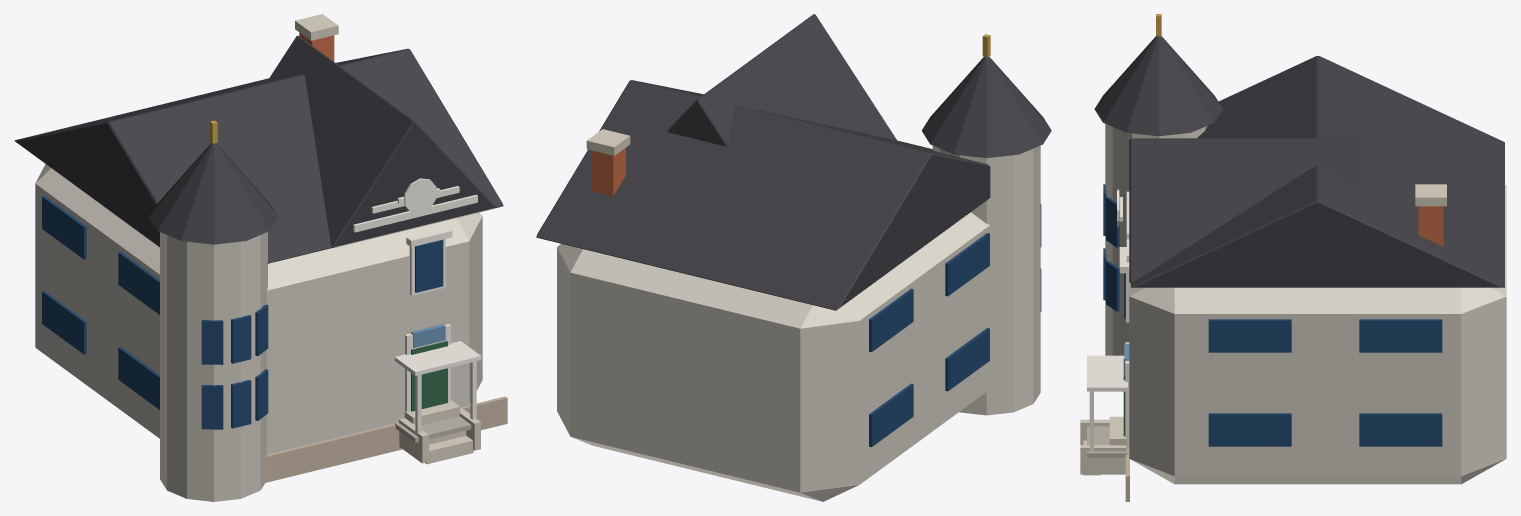
The model's file is qa_w11_turret.glb.
3 renders of one model, left to right at view 1: azimuth 30°, elevation 25°; view 2: azimuth 150°, elevation 25°; view 3: azimuth 270°, elevation 25°, orthographic.
Visible parts, largest first — view 1: walls, roof, turret, roof.001, tcone, bsmt, proof, sb.002, sb.006, sb, sb.004, wgl (+16 smaller); view 2: walls, roof, turret, roof.001, tcone, sb, sb.002, sb.004, sb.006, chimney, chimcap; view 3: walls, roof, roof.001, tcone, turret, sb.001, sb.003, sb.005, sb.007, proof, cheek.001, chimney (+5 smaller).
Boxes of the visible parts, x1,y1,x2,y2 form: walls: [35, 164, 482, 454]; roof: [14, 48, 503, 263]; turret: [160, 232, 267, 501]; roof.001: [267, 35, 495, 247]; tcone: [149, 143, 278, 244]; bsmt: [265, 396, 507, 482]; proof: [394, 341, 481, 375]; sb.002: [42, 291, 86, 354]; sb.006: [42, 196, 86, 259]; sb: [118, 347, 159, 409]; sb.004: [118, 252, 159, 314]; wgl: [415, 239, 443, 292]; walls: [557, 212, 990, 501]; roof: [536, 80, 990, 310]; turret: [932, 145, 1040, 415]; roof.001: [667, 14, 896, 146]; tcone: [921, 56, 1051, 158]; sb: [945, 328, 989, 391]; sb.002: [869, 383, 913, 447]; sb.004: [945, 233, 989, 296]; sb.006: [869, 288, 913, 352]; chimney: [591, 148, 625, 196]; chimcap: [586, 129, 630, 155]; walls: [1129, 185, 1506, 484]; roof: [1131, 56, 1504, 287]; roof.001: [1129, 138, 1363, 283]; tcone: [1094, 36, 1222, 136]; turret: [1105, 124, 1207, 355]; sb.001: [1208, 413, 1291, 446]; sb.003: [1359, 413, 1442, 446]; sb.005: [1208, 319, 1291, 352]; sb.007: [1359, 319, 1442, 352]; proof: [1087, 355, 1127, 391]; cheek.001: [1080, 445, 1126, 474]; chimney: [1418, 206, 1443, 246].
Size of the model in its own units: 12.22 by 12.4 by 13.56.
